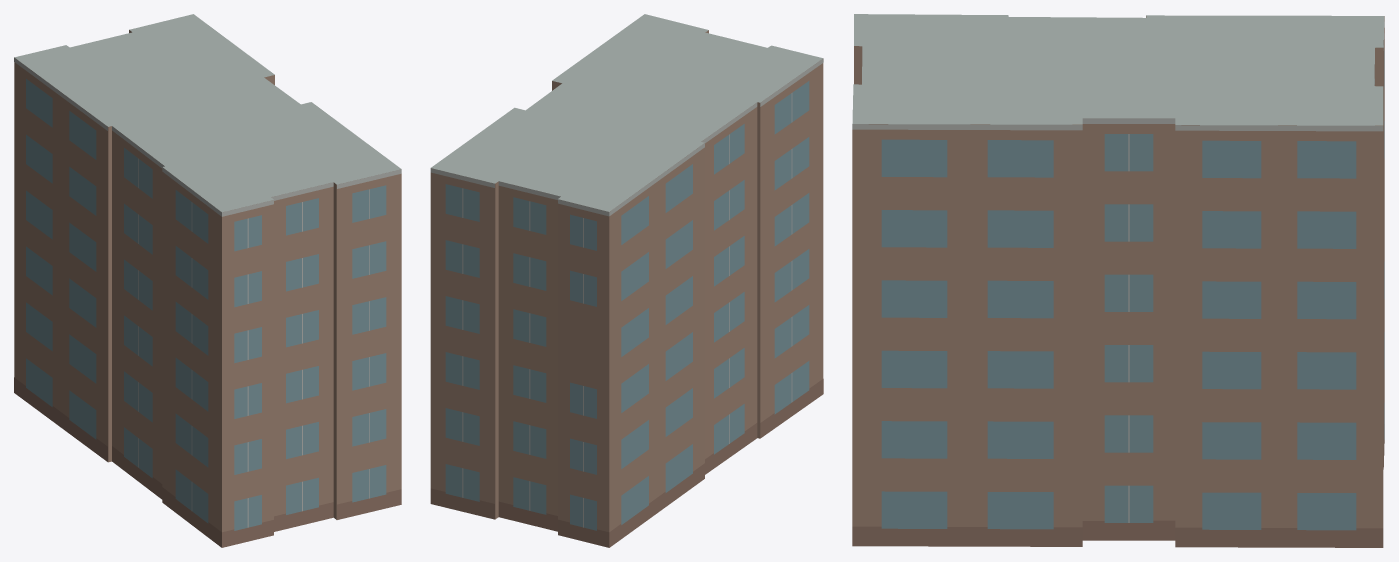
File: survey-upis-33022015.glb
3 renders of one model, left to right at view 1: azimuth 30°, elevation 25°; view 2: azimuth 150°, elevation 25°; view 3: azimuth 270°, elevation 25°, orthographic. The views are drawn at different scales.
Visible parts, largest first — view 1: survey-upis-33022015.tmp; view 2: survey-upis-33022015.tmp; view 3: survey-upis-33022015.tmp.
Part boxes in pixels (bbox=[...]): survey-upis-33022015.tmp: bbox=[14, 14, 401, 547]; survey-upis-33022015.tmp: bbox=[430, 14, 823, 547]; survey-upis-33022015.tmp: bbox=[852, 14, 1384, 547].
Bounding box in the file's own units: 10.4 × 18.3 × 20.91.
